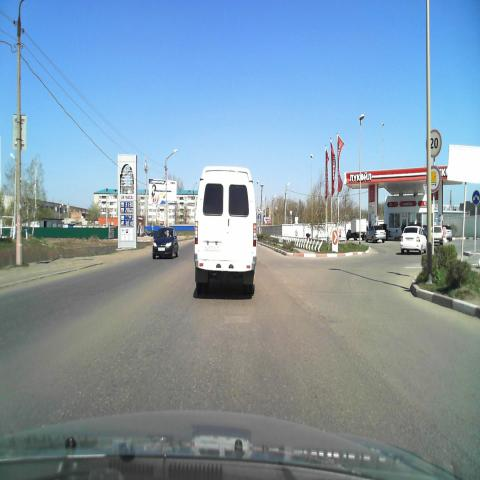3_32: (426, 164, 441, 192)
